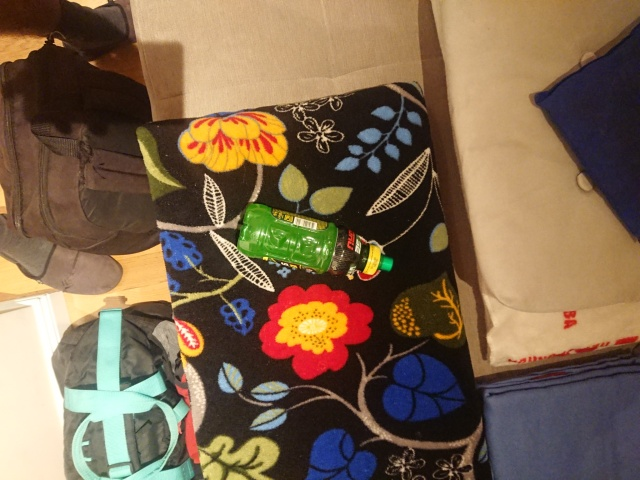Vindi Iso Sport Lemon-Grapefruit 500mL: (233, 200, 396, 278)
